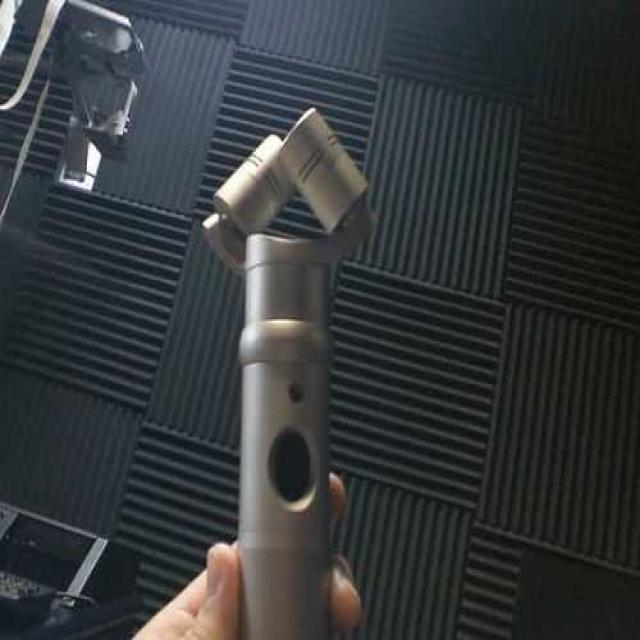microphone: (202, 107, 381, 634)
